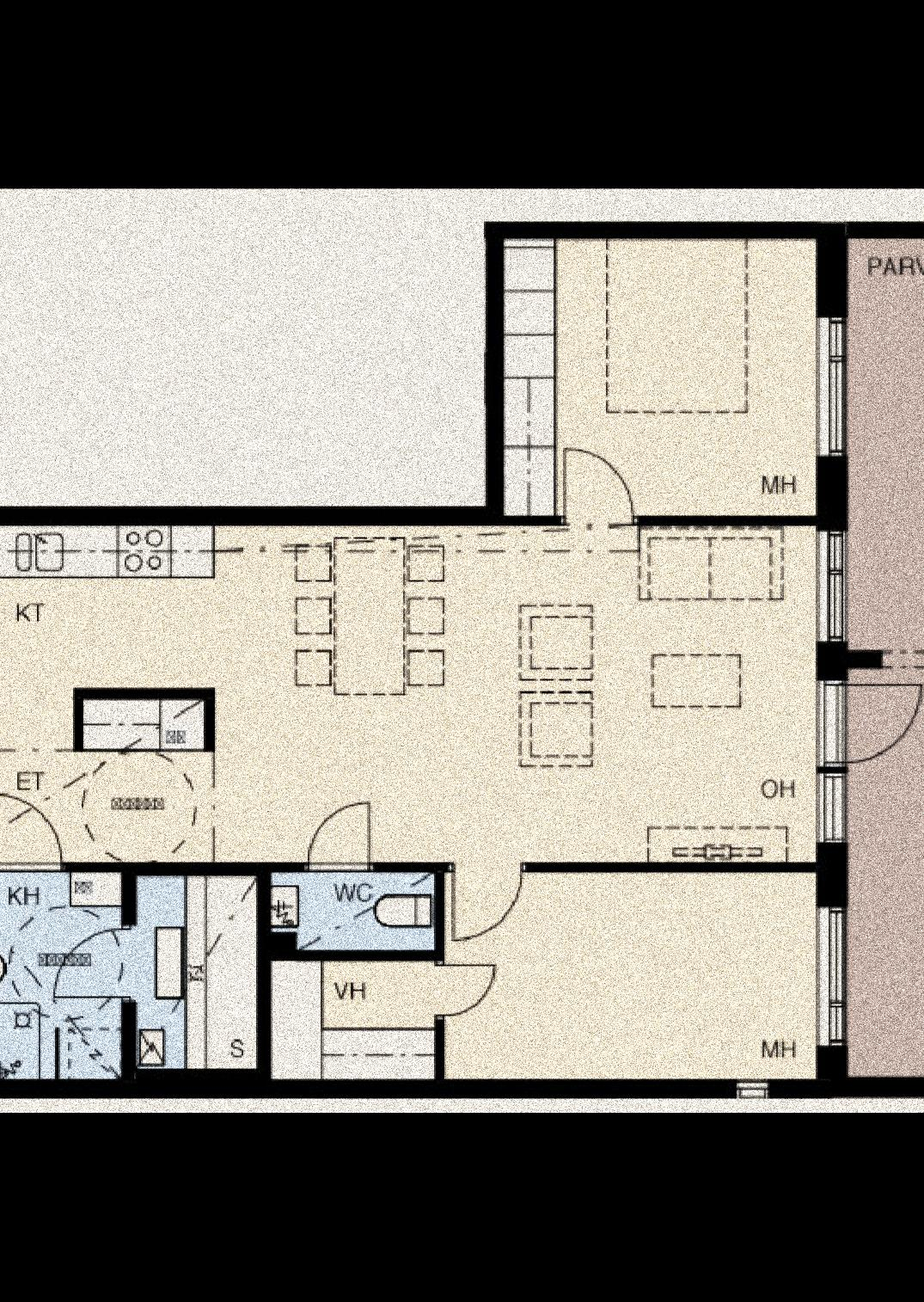door: (819, 675, 920, 770), (554, 444, 643, 537), (49, 923, 136, 1017), (294, 795, 380, 878), (437, 862, 520, 940), (418, 952, 498, 1030), (0, 787, 67, 880)
window: (809, 310, 846, 454), (814, 913, 852, 1052), (806, 534, 846, 645), (809, 774, 846, 840), (723, 1078, 771, 1102)
zone: (0, 530, 810, 869), (513, 236, 817, 511), (441, 866, 814, 1078), (845, 236, 924, 1084), (0, 873, 119, 1078), (138, 870, 258, 1064)
